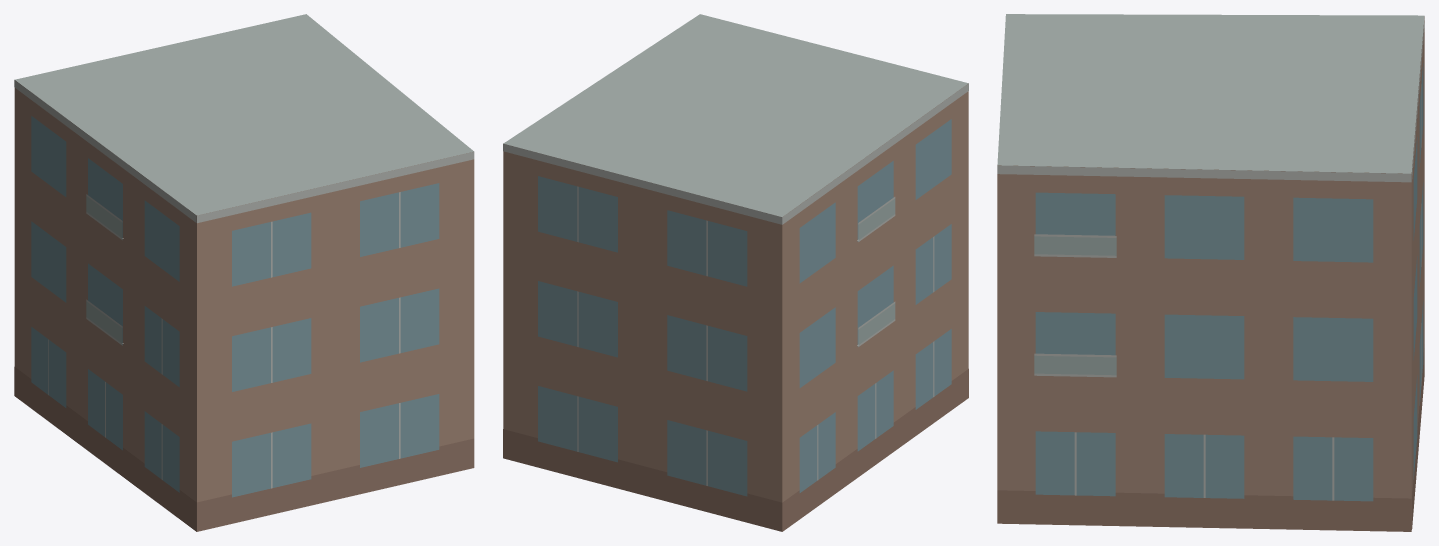
The model's file is survey-upis-32591165.glb.
3 views of the same model, side by side, from view 1: azimuth 30°, elevation 25°; view 2: azimuth 150°, elevation 25°; view 3: azimuth 270°, elevation 25° (orthographic). The views are drawn at different scales.
Parts seen in each view (by area): view 1: survey-upis-32591165.tmp; view 2: survey-upis-32591165.tmp; view 3: survey-upis-32591165.tmp.
Boxes of the visible parts, x1=… form: survey-upis-32591165.tmp: x1=14, y1=14, x2=474, y2=531; survey-upis-32591165.tmp: x1=503, y1=14, x2=968, y2=531; survey-upis-32591165.tmp: x1=997, y1=14, x2=1424, y2=531.
Size of the model in its own units: 9.57 by 10 by 10.82.
